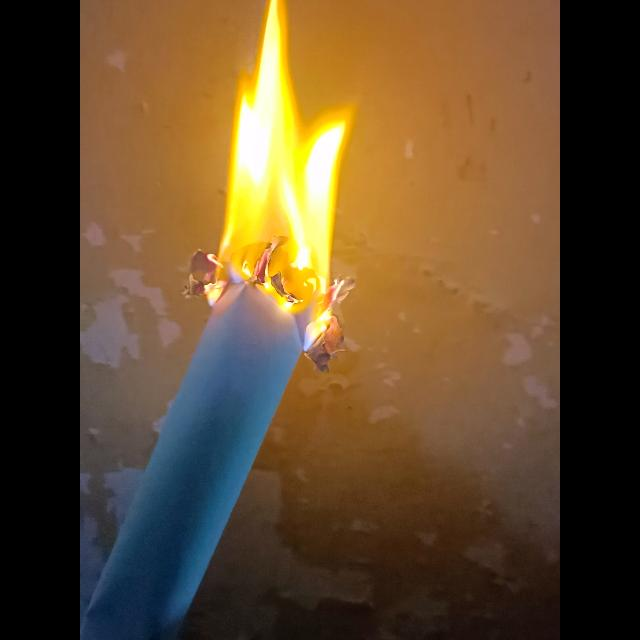fire: (187, 0, 355, 370)
